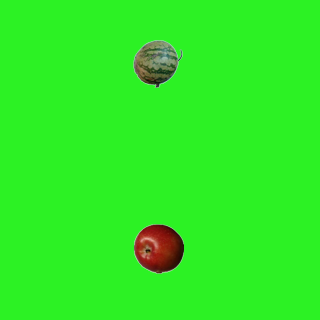Apple Braeburn: (133, 223, 183, 273)
Watermelon: (132, 38, 182, 88)
